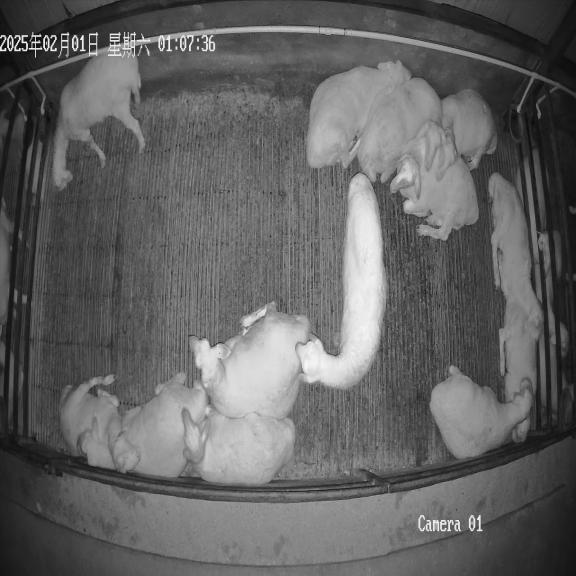lying: (296, 172, 386, 389), (189, 302, 311, 418), (306, 60, 411, 168), (430, 366, 533, 459), (119, 372, 208, 477), (488, 172, 543, 340), (357, 77, 444, 183), (181, 405, 295, 485), (59, 375, 140, 472), (390, 156, 479, 240), (436, 89, 497, 179), (499, 314, 540, 402), (82, 428, 114, 469), (512, 416, 530, 443)
stand: (52, 54, 145, 190)
